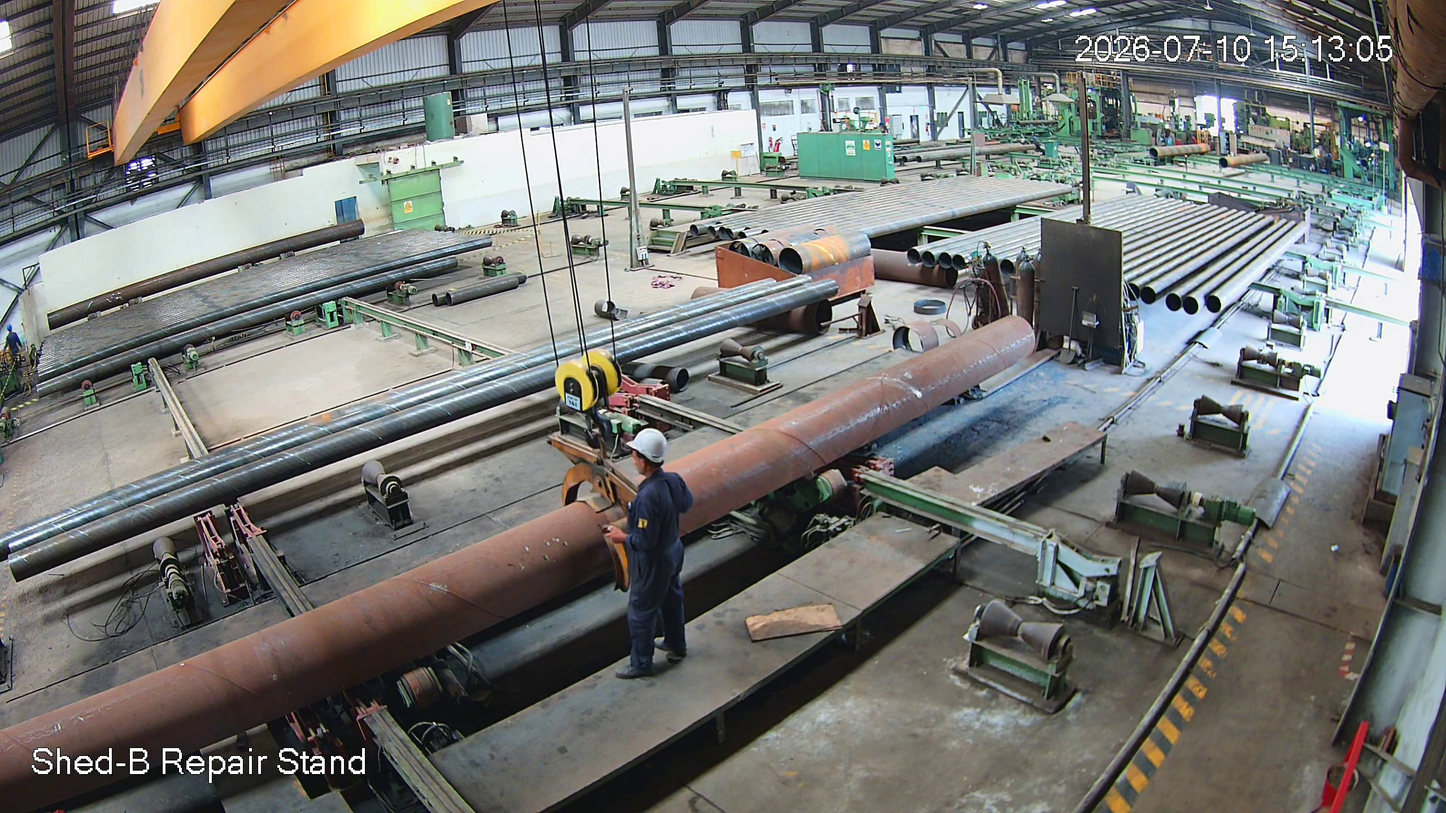Helmet: (625, 427, 685, 497)
Person: (597, 431, 688, 679)
